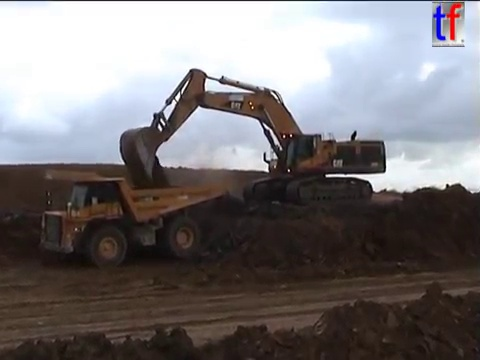excavator: (117, 65, 388, 209)
truck: (33, 168, 231, 270)
